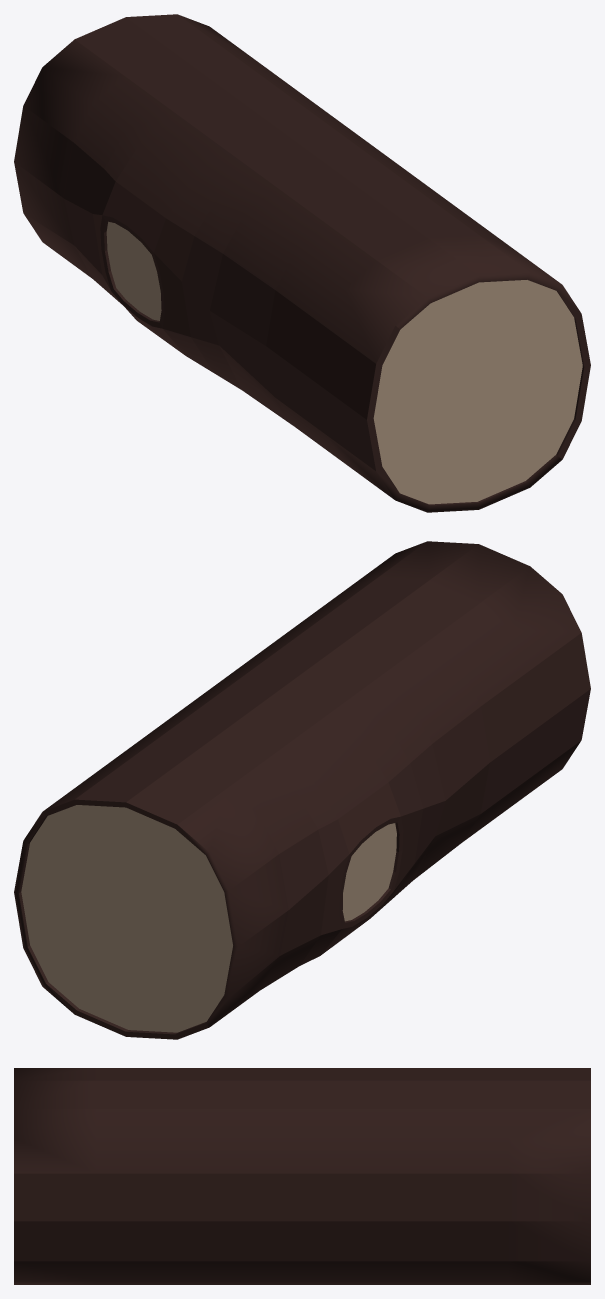
Rendered from SpruceLog.fbx.
3 renders of one model, top to bottom at view 1: azimuth 30°, elevation 25°; view 2: azimuth 150°, elevation 25°; view 3: azimuth 270°, elevation 25°, orthographic. The views are drawn at different scales.
Parts seen in each view (by area): view 1: Cube; view 2: Cube; view 3: Cube.
Part boxes in pixels (x1=…): Cube: x1=14, y1=14, x2=590, y2=512; Cube: x1=14, y1=541, x2=590, y2=1039; Cube: x1=14, y1=1068, x2=590, y2=1284.
Size of the model in its own units: 271 by 257 by 700.
